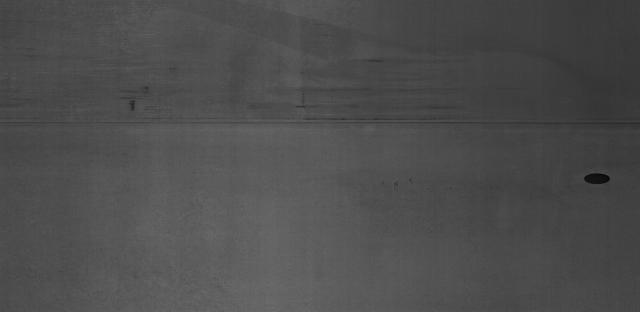punching_hole: (582, 169, 614, 189)
welding_line: (4, 109, 634, 135)
